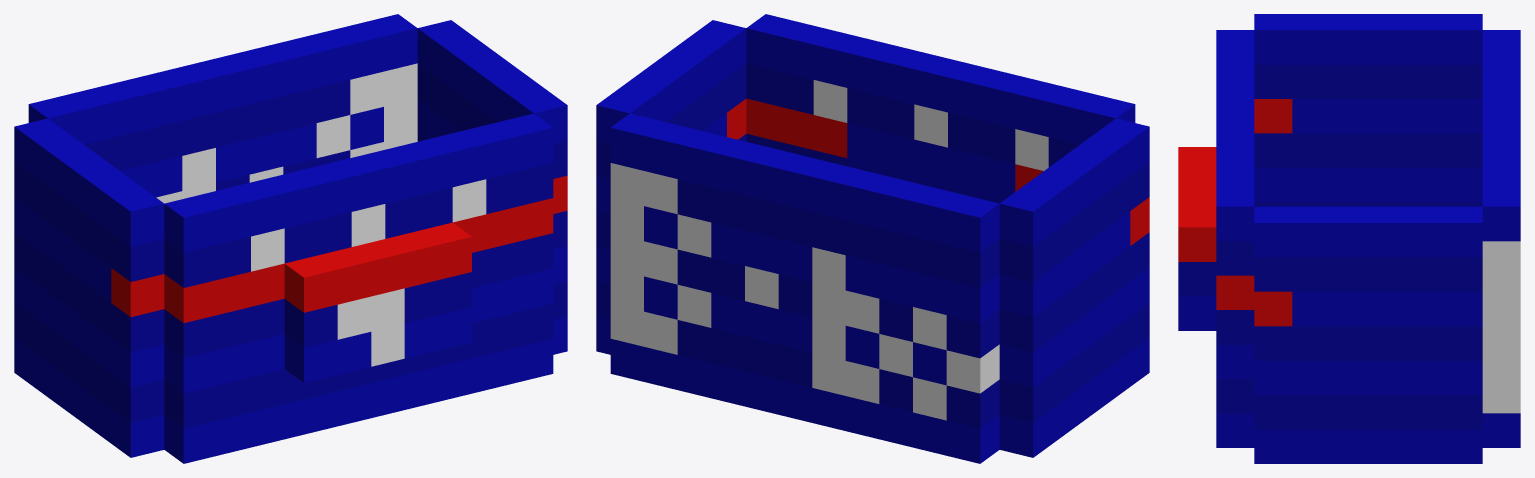
File: accessories_clothes_france.glb
3 views of the same model, side by side, from view 1: azimuth 30°, elevation 25°; view 2: azimuth 150°, elevation 25°; view 3: azimuth 270°, elevation 25° (orthographic). The views are drawn at different scales.
Visible parts, largest first — view 1: model_0; view 2: model_0; view 3: model_0.
Part boxes in pixels (x1,y1,x2,y2): model_0: (14,14,567,463); model_0: (596,14,1149,463); model_0: (1178,14,1520,463).
Bounding box in the file's own units: 13 × 7 × 9.
